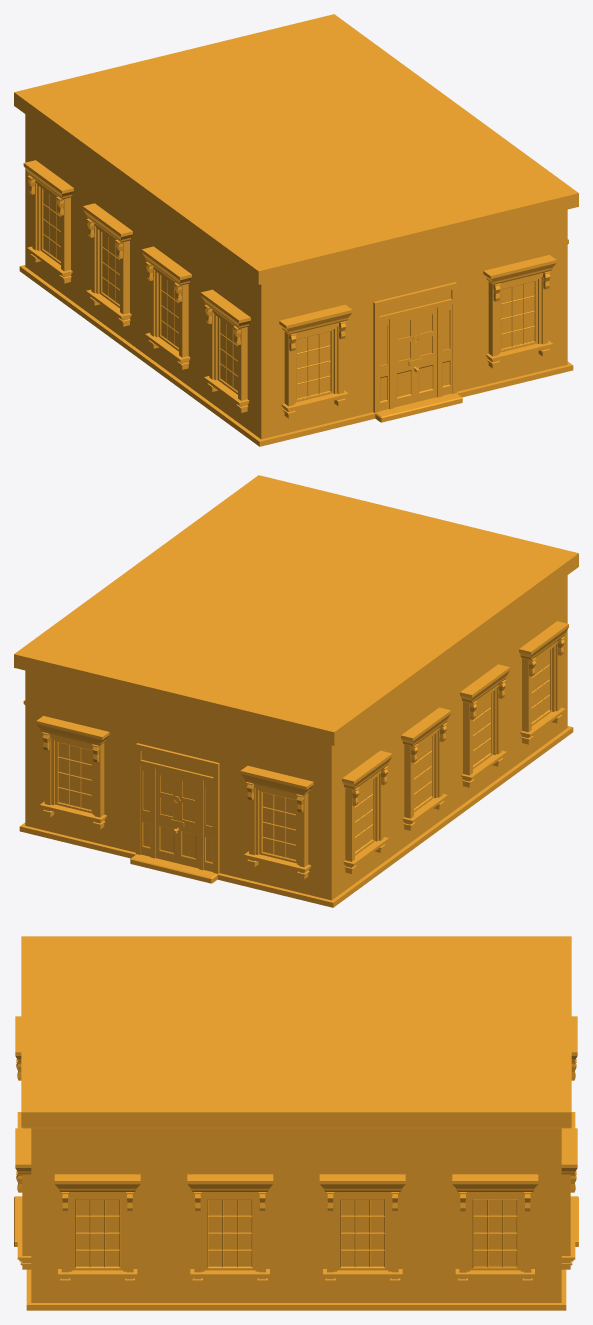
Rendered from SM_Floor_Bottom_Wide_Door_As_Steampunk.fbx.
The picture shows the model from 3 angles, top to bottom: view 1: azimuth 30°, elevation 25°; view 2: azimuth 150°, elevation 25°; view 3: azimuth 270°, elevation 25°; orthographic projection. The views are drawn at different scales.
Parts seen in each view (by area): view 1: floor-bottom-wide-door-as-steampunk; view 2: floor-bottom-wide-door-as-steampunk; view 3: floor-bottom-wide-door-as-steampunk.
Boxes of the visible parts, bbox=[...] form: floor-bottom-wide-door-as-steampunk: bbox=[14, 14, 578, 446]; floor-bottom-wide-door-as-steampunk: bbox=[14, 475, 578, 907]; floor-bottom-wide-door-as-steampunk: bbox=[14, 936, 578, 1310].
Size of the model in its own units: 9.71 by 5 by 12.79.
